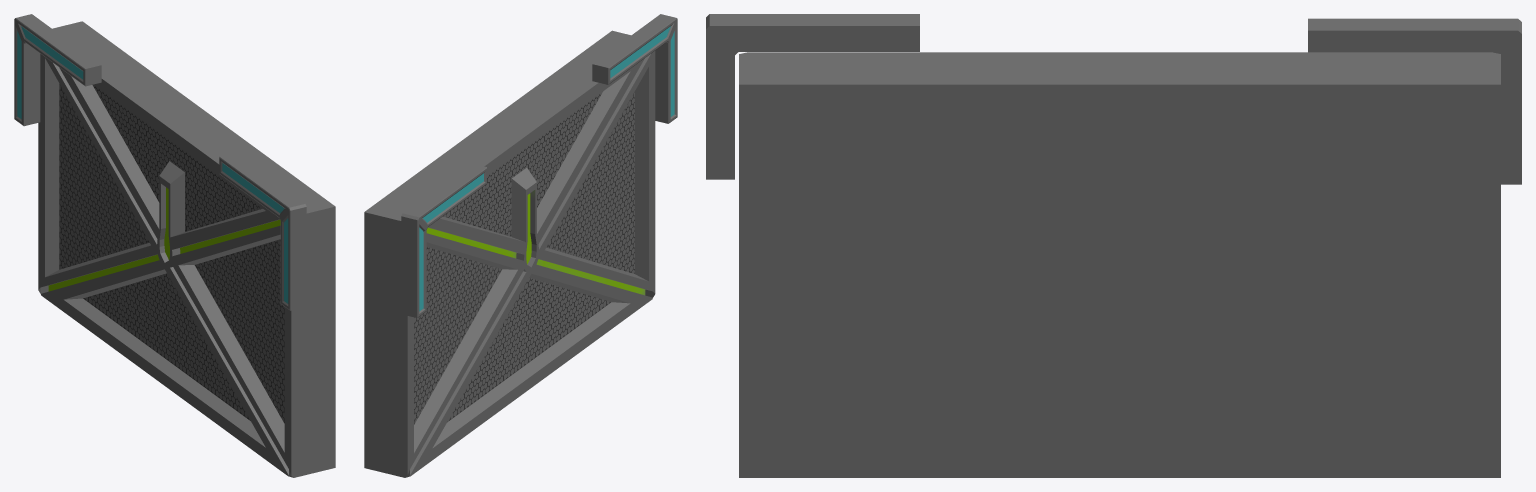
3 views of the same model, side by side, from view 1: azimuth 30°, elevation 25°; view 2: azimuth 150°, elevation 25°; view 3: azimuth 270°, elevation 25° (orthographic). The views are drawn at different scales.
Parts seen in each view (by area): view 1: SM_B3_D2_SM_B3_D2; view 2: SM_B3_D2_SM_B3_D2; view 3: SM_B3_D2_SM_B3_D2.
Part boxes in pixels (x1,y1,x2,y2): SM_B3_D2_SM_B3_D2: (14, 14, 335, 477); SM_B3_D2_SM_B3_D2: (364, 14, 677, 477); SM_B3_D2_SM_B3_D2: (706, 14, 1521, 477).
Bounding box in the file's own units: 70.67 × 538 × 308.
1 material, 1 textured.
